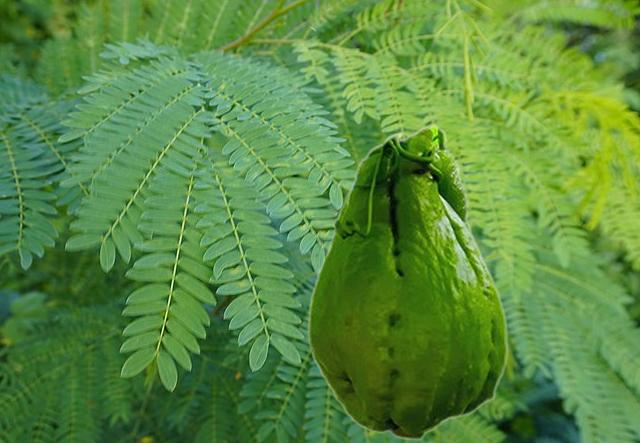sayote: (307, 124, 508, 440)
